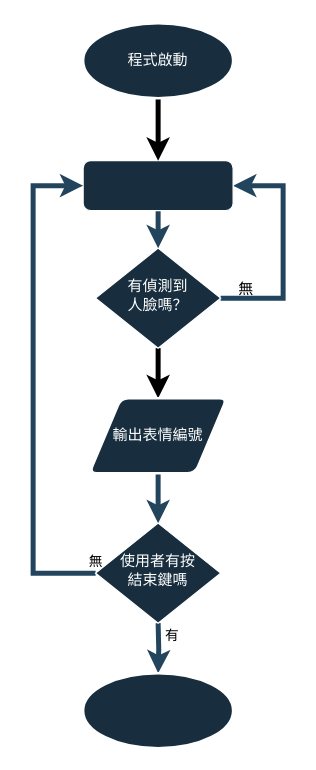
This 316x770 diagram has some shape labels left out. Here are the shapes that lost their labels. From the top down, the centre of each, then its label:
At point 157,185: "偵測人臉".
At point 157,710: "程式結束".
